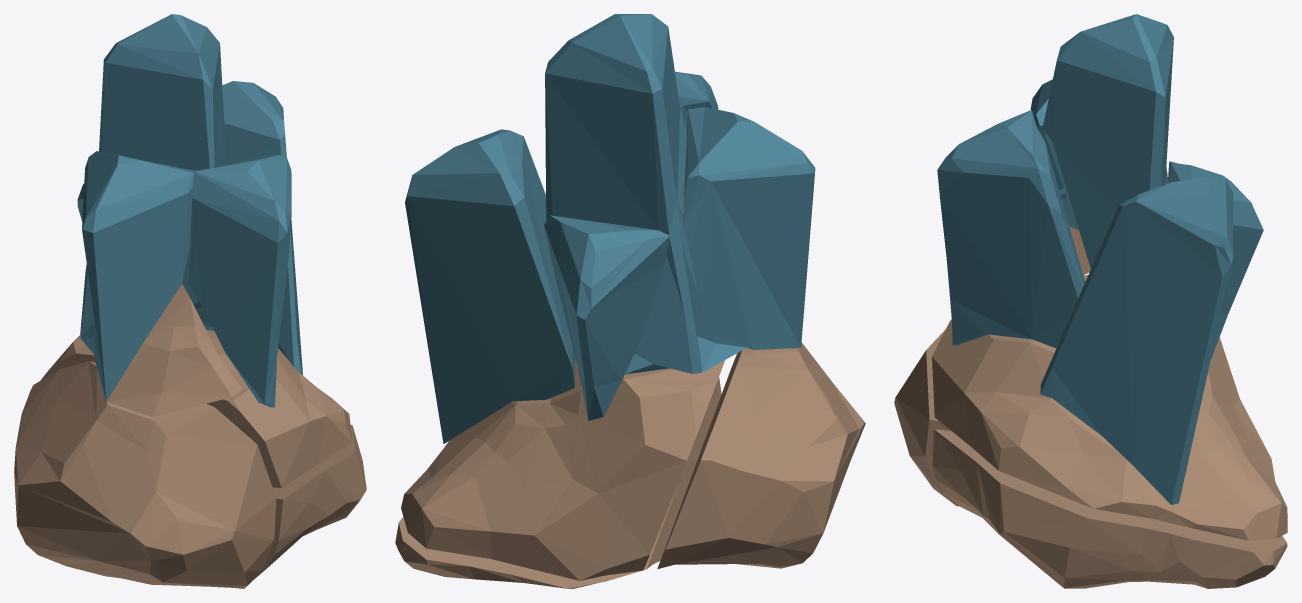
Rendered from SM_LP_Mineral_4_Pieces.fbx.
The picture shows the model from 3 angles, left to right: view 1: azimuth 30°, elevation 25°; view 2: azimuth 150°, elevation 25°; view 3: azimuth 270°, elevation 25°; orthographic projection. The views are drawn at different scales.
Parts seen in each view (by area): view 1: SM_LP_Mineral_4_Piece_1, SM_LP_Mineral_4_Piece_5, SM_LP_Mineral_4_Piece_7, SM_LP_Mineral_4_Piece_6, SM_LP_Mineral_4_Piece_3, SM_LP_Mineral_4_Piece_8, SM_LP_Mineral_4_Piece_2; view 2: SM_LP_Mineral_4_Piece_3, SM_LP_Mineral_4_Piece_8, SM_LP_Mineral_4_Piece_6, SM_LP_Mineral_4_Piece_1, SM_LP_Mineral_4_Piece_5, SM_LP_Mineral_4_Piece_4, SM_LP_Mineral_4_Piece_2, SM_LP_Mineral_4_Piece_7; view 3: SM_LP_Mineral_4_Piece_8, SM_LP_Mineral_4_Piece_3, SM_LP_Mineral_4_Piece_7, SM_LP_Mineral_4_Piece_2, SM_LP_Mineral_4_Piece_6, SM_LP_Mineral_4_Piece_1, SM_LP_Mineral_4_Piece_4, SM_LP_Mineral_4_Piece_5.
Part boxes in pixels (left/top/right/bottom): SM_LP_Mineral_4_Piece_1: left=14, top=361, right=276, bottom=588; SM_LP_Mineral_4_Piece_5: left=82, top=151, right=241, bottom=416; SM_LP_Mineral_4_Piece_7: left=189, top=155, right=291, bottom=407; SM_LP_Mineral_4_Piece_6: left=80, top=14, right=226, bottom=355; SM_LP_Mineral_4_Piece_3: left=40, top=330, right=352, bottom=487; SM_LP_Mineral_4_Piece_8: left=196, top=81, right=302, bottom=374; SM_LP_Mineral_4_Piece_2: left=253, top=425, right=366, bottom=579; SM_LP_Mineral_4_Piece_3: left=401, top=356, right=724, bottom=580; SM_LP_Mineral_4_Piece_8: left=405, top=129, right=574, bottom=443; SM_LP_Mineral_4_Piece_6: left=545, top=14, right=746, bottom=374; SM_LP_Mineral_4_Piece_1: left=657, top=342, right=865, bottom=568; SM_LP_Mineral_4_Piece_5: left=682, top=107, right=815, bottom=349; SM_LP_Mineral_4_Piece_4: left=544, top=215, right=669, bottom=420; SM_LP_Mineral_4_Piece_2: left=395, top=377, right=721, bottom=588; SM_LP_Mineral_4_Piece_7: left=675, top=71, right=718, bottom=131; SM_LP_Mineral_4_Piece_8: left=1040, top=177, right=1233, bottom=504; SM_LP_Mineral_4_Piece_3: left=932, top=319, right=1287, bottom=540; SM_LP_Mineral_4_Piece_7: left=937, top=110, right=1085, bottom=348; SM_LP_Mineral_4_Piece_2: left=932, top=429, right=1287, bottom=588; SM_LP_Mineral_4_Piece_6: left=1042, top=14, right=1173, bottom=268; SM_LP_Mineral_4_Piece_1: left=894, top=275, right=1088, bottom=506; SM_LP_Mineral_4_Piece_4: left=1168, top=161, right=1263, bottom=358; SM_LP_Mineral_4_Piece_5: left=1030, top=79, right=1090, bottom=274.
Bounding box in the file's own units: 0.6577 × 0.9967 × 0.6748.
